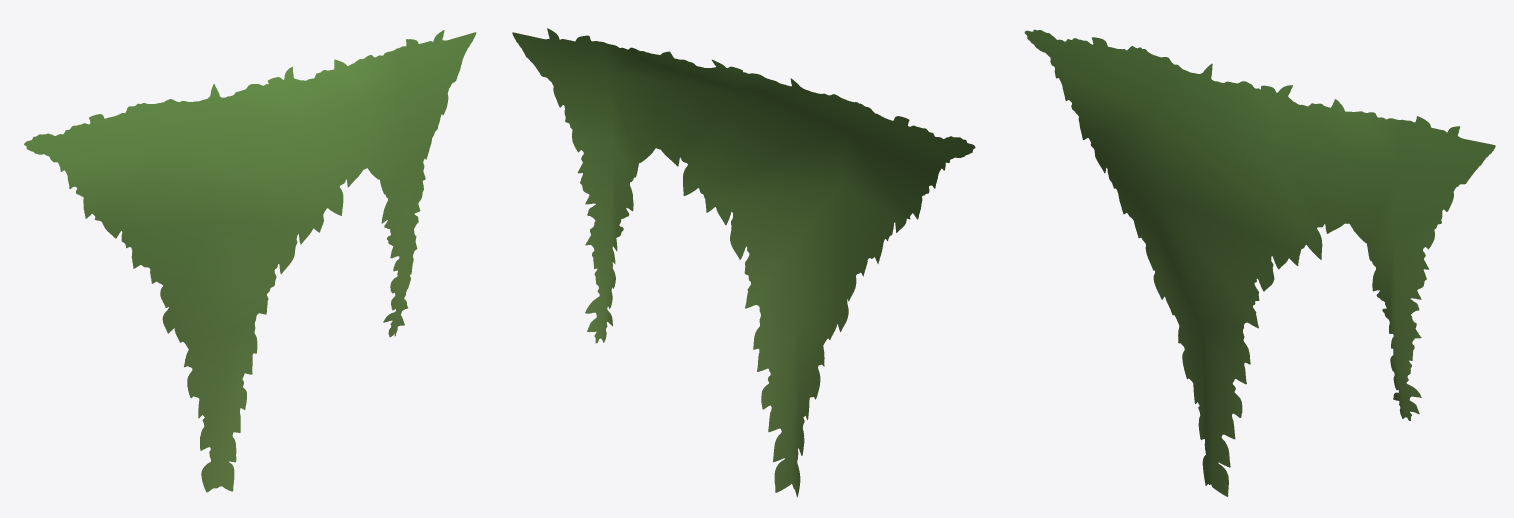
File: Vines_02.fbx
3 views of the same model, side by side, from view 1: azimuth 30°, elevation 25°; view 2: azimuth 150°, elevation 25°; view 3: azimuth 330°, elevation 25° (orthographic). The views are drawn at different scales.
Visible parts, largest first — view 1: Vines_02; view 2: Vines_02; view 3: Vines_02.
Part boxes in pixels (bbox=[...]): Vines_02: bbox=[24, 30, 476, 492]; Vines_02: bbox=[512, 28, 975, 497]; Vines_02: bbox=[1024, 29, 1495, 496].
Bounding box in the file's own units: 226 × 199 × 23.95.
